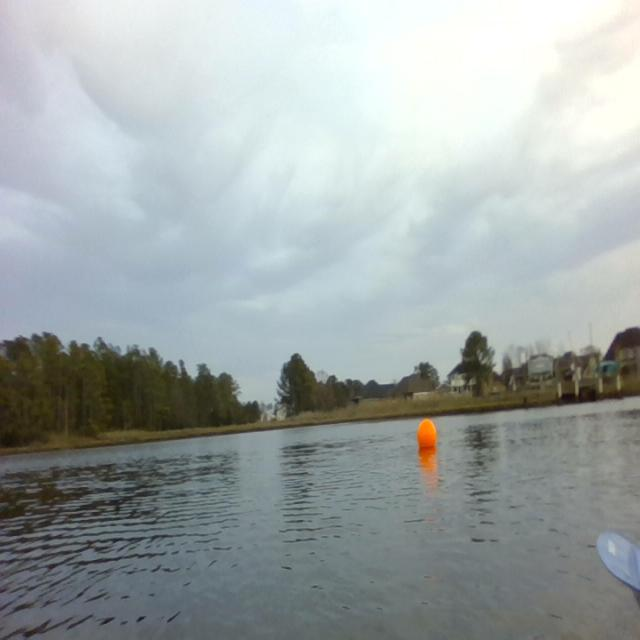Buoy: (416, 415, 440, 456)
